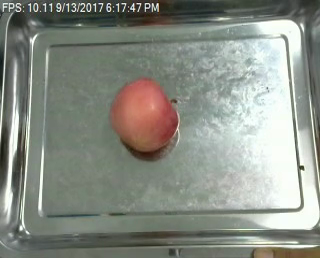Apple: (108, 74, 180, 159)
